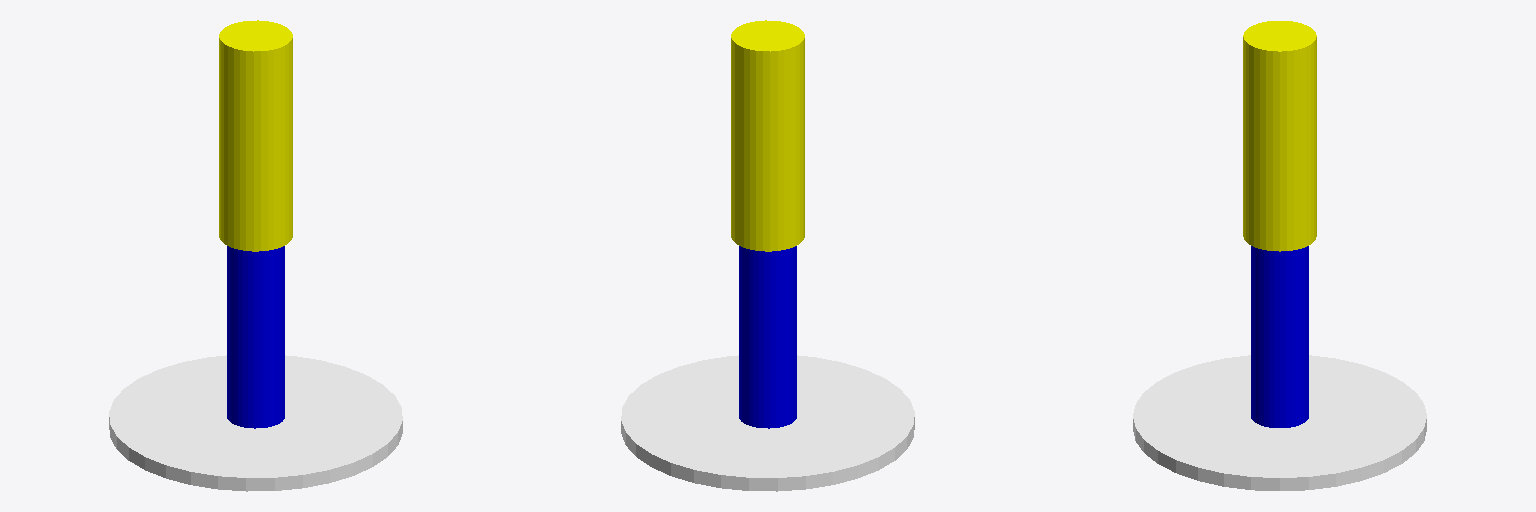
robot.urdf — pan_tilt:
<?xml version="1.0"?>
<robot name="pan_tilt">

	<material name="white">
    <color rgba="1 1 1 1"/>
  </material>

	<material name="blue">
    <color rgba="0 0 1 1"/>
  </material>

	<material name="yellow">
    <color rgba="1 1 0 1"/>
  </material>


<!-- baza robotului -->
	<link name="base_link">
		
		<!-- baza robotului VIZUAL-->
    <visual>

			<!-- baza robotului GEOMETRIE-->
			<geometry>
				<cylinder length="0.02" radius="0.2"/>
      </geometry>
			<material name="white"/>
			<origin rpy="0 0 0" xyz="0 0 0.01"/>

    </visual>
  
	</link>

<!-- element de tip pan -->
	<link name="pan_link">
		
		<!-- baza robotului VIZUAL-->
    <visual>

			<!-- baza robotului GEOMETRIE-->
			<geometry>
				<cylinder length="0.4" radius="0.04"/>
      </geometry>
			<material name="blue"/>
			<origin rpy="0 0 0" xyz="0 0 0.2"/>
    </visual>
  
	</link>

<!-- element de tip pan -->
	<link name="tilt_link">
		
		<!-- baza robotului VIZUAL-->
    <visual>

			<!-- baza robotului GEOMETRIE-->
			<geometry>
				<cylinder length="0.3" radius="0.05"/>
      </geometry>
			<material name="yellow"/>
			<origin rpy="0 0 0" xyz="0 0 0"/>
    </visual>
  
	</link>


<!--CUPLE: baza robotului & cilindru -->
	<joint name="pan_joint" type="revolute">
    <parent link="base_link"/>
    <child link="pan_link"/>
		
		<origin xyz="0 0 0.02"/>
    <axis xyz="0 0 1" />
		<limit effort="300" velocity="0.1" lower="-3.14" upper="3.14"/>
	</joint>

<!--CUPLE: element pan & element tilt -->
	<joint name="tilt_joint" type="revolute">
    <parent link="pan_link"/>
    <child link="tilt_link"/>

		<origin xyz="0 0 0.42"/>
    <axis xyz="0 1 0" />
		<limit effort="300" velocity="0.1" lower="-3.14" upper="3.14"/>
	</joint>


</robot>

--- Facts derived from the render (not from the file) ---
Views: 3 orthographic renders of the robot side by side, from view 1: azimuth 30°, elevation 25°; view 2: azimuth 150°, elevation 25°; view 3: azimuth 270°, elevation 25°.
Model pan_tilt with 3 links and 2 joints (2 revolute), rooted at base_link, posed all joints at 0.
Links seen in each view (by area): view 1: base_link, tilt_link, pan_link; view 2: base_link, tilt_link, pan_link; view 3: base_link, tilt_link, pan_link.
Boxes of the visible links, <box> form: base_link: <box>109,355,402,491</box>; tilt_link: <box>219,20,292,251</box>; pan_link: <box>227,246,284,428</box>; base_link: <box>621,355,914,491</box>; tilt_link: <box>731,20,804,251</box>; pan_link: <box>739,246,796,428</box>; base_link: <box>1133,355,1426,490</box>; tilt_link: <box>1243,21,1316,251</box>; pan_link: <box>1251,246,1308,427</box>.
Size in the robot's own frame: 0.4 by 0.4 by 0.59 metres.
Geometry: primitives only (box / cylinder / sphere), no mesh files.